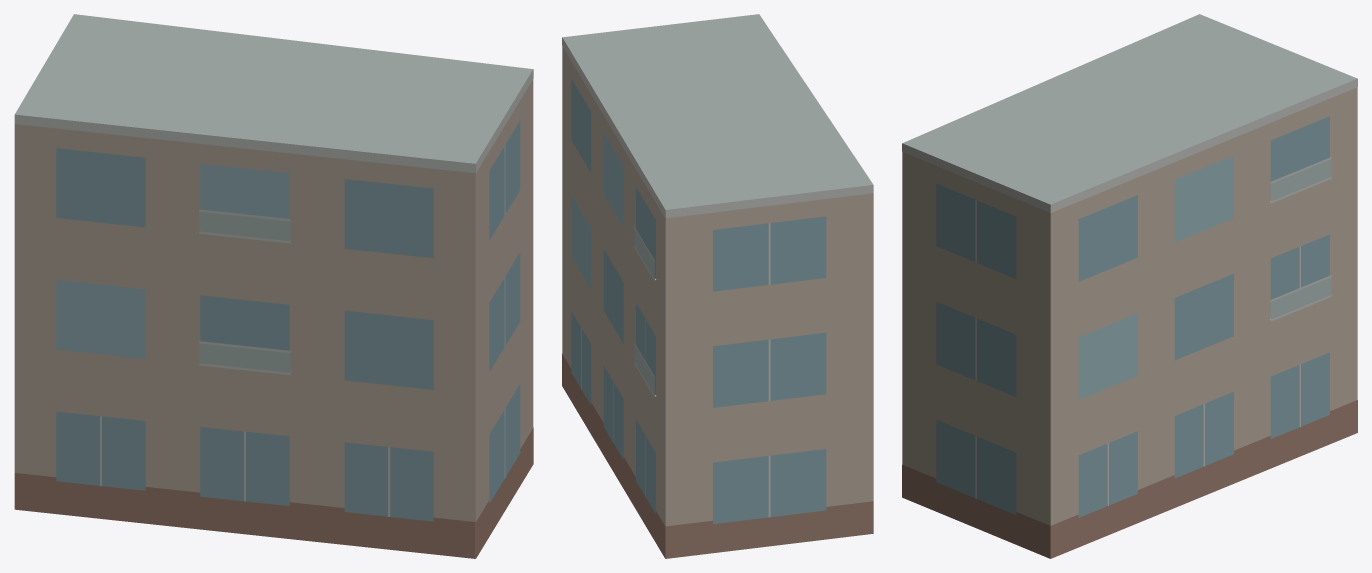
File: survey-upis-32544094.glb
3 renders of one model, left to right at view 1: azimuth 30°, elevation 25°; view 2: azimuth 150°, elevation 25°; view 3: azimuth 270°, elevation 25°, orthographic. The views are drawn at different scales.
Parts seen in each view (by area): view 1: survey-upis-32544094.tmp; view 2: survey-upis-32544094.tmp; view 3: survey-upis-32544094.tmp.
Boxes of the visible parts, x1,y1,x2,y2 form: survey-upis-32544094.tmp: (14, 14, 533, 558); survey-upis-32544094.tmp: (562, 14, 873, 558); survey-upis-32544094.tmp: (902, 14, 1357, 558).
Bounding box in the file's own units: 11.78 × 10.2 × 11.89.
